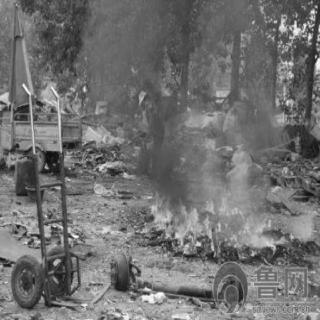Fire: (134, 178, 302, 272)
